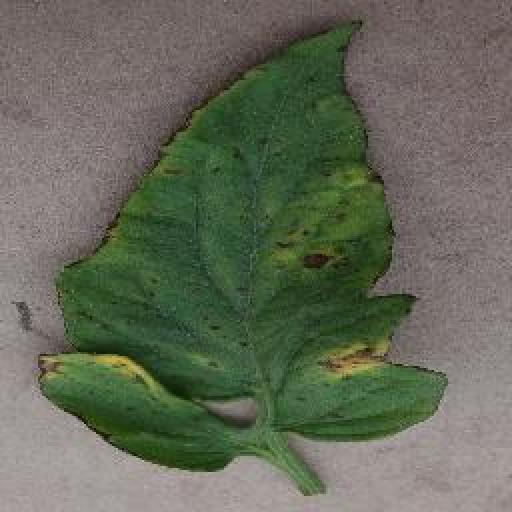Bacterial Spot: (32, 15, 452, 476)
